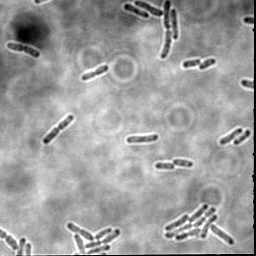Dividing: (41, 113, 75, 146), (159, 0, 172, 60), (5, 40, 43, 59), (134, 0, 164, 17), (81, 64, 109, 82)
Microcolony: (163, 202, 235, 246), (65, 221, 121, 255)
Rod: (218, 126, 244, 147), (122, 2, 150, 20), (125, 133, 160, 145), (232, 128, 252, 146), (169, 8, 179, 40), (198, 57, 217, 72), (173, 157, 194, 170), (181, 58, 202, 70), (154, 160, 175, 171)
